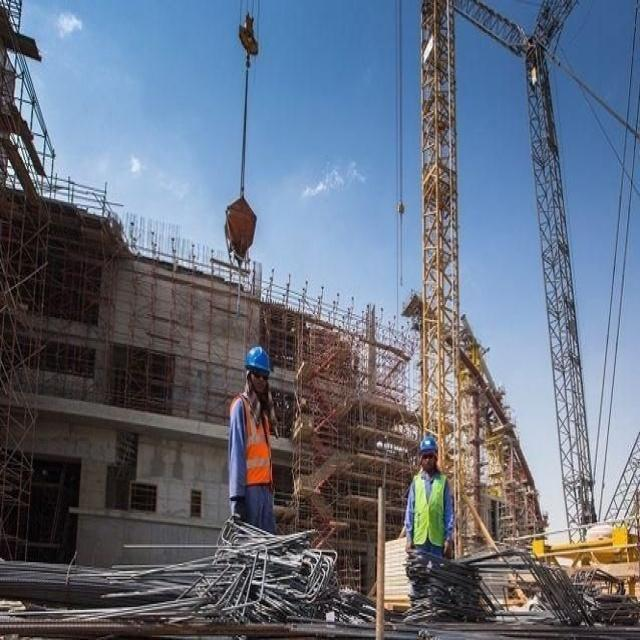helmet: (241, 462, 272, 526), (417, 578, 437, 630)
vest: (230, 524, 279, 640), (412, 635, 449, 640)
